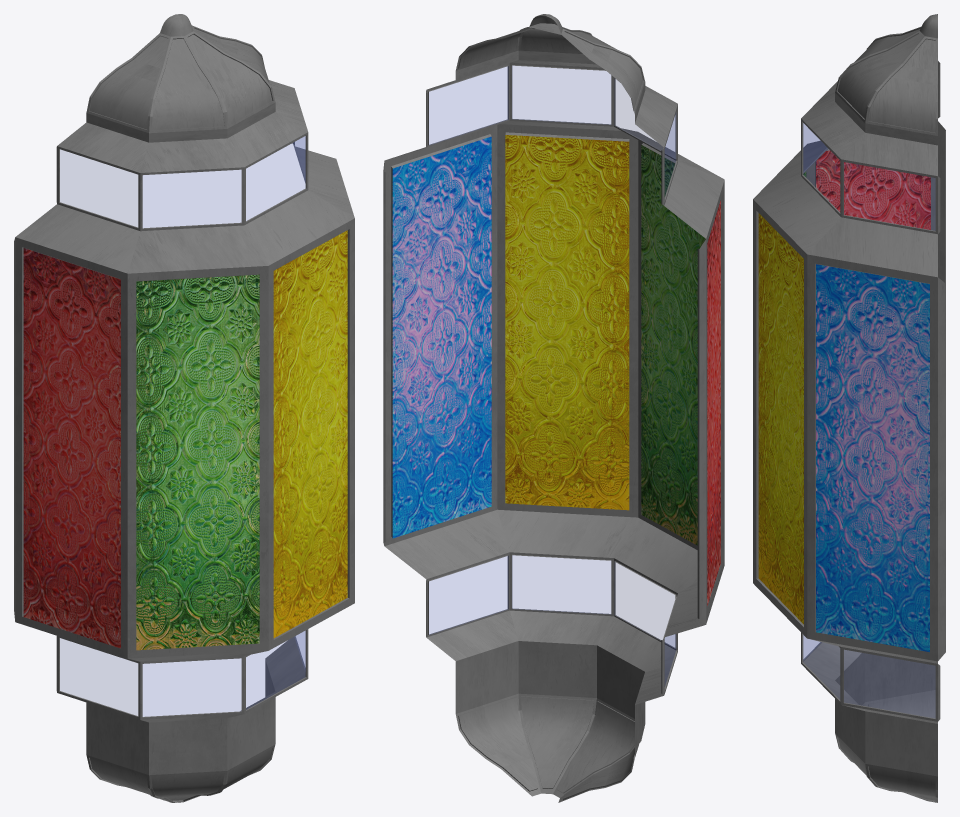
The model's file is Wall lamp.fbx.
The picture shows the model from 3 angles, left to right: view 1: azimuth 30°, elevation 25°; view 2: azimuth 150°, elevation 25°; view 3: azimuth 270°, elevation 25°; orthographic projection.
Visible parts, largest first — view 1: wall lamp; view 2: wall lamp; view 3: wall lamp.
Boxes of the visible parts, x1,y1,x2,y2 form: wall lamp: (14, 14, 354, 802); wall lamp: (383, 14, 724, 802); wall lamp: (753, 14, 945, 802).
Bounding box in the file's own units: 19.34 × 45.02 × 10.09.
Materials: 3 (2 with a texture image).
